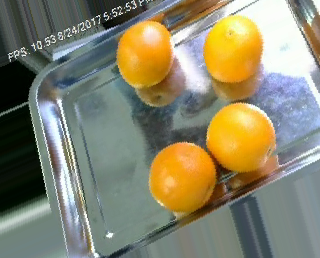Orange: (205, 102, 277, 172), (147, 141, 217, 212), (203, 15, 264, 82), (114, 20, 171, 87)
